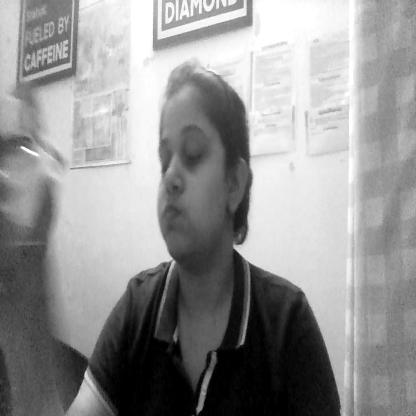Distracted: (153, 66, 253, 275)
